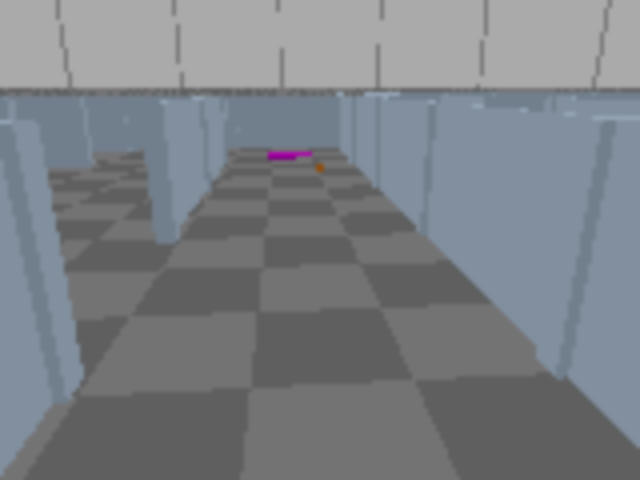goal_zone: (266, 151, 313, 158)
